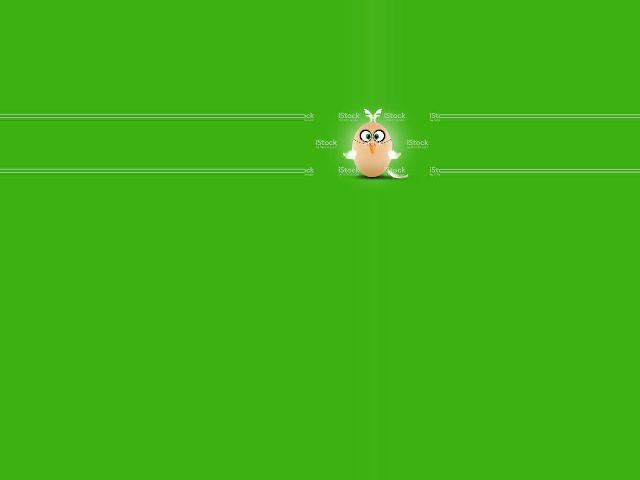egg: (353, 122, 392, 178)
